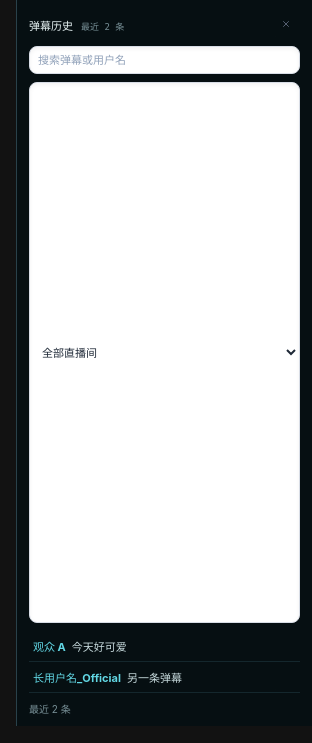
Test: reports clipboard success on the selected row
Click the button with aria-label "复制 观众 A 的弹幕" at coordinates (49, 647), box [29,631,300,662]
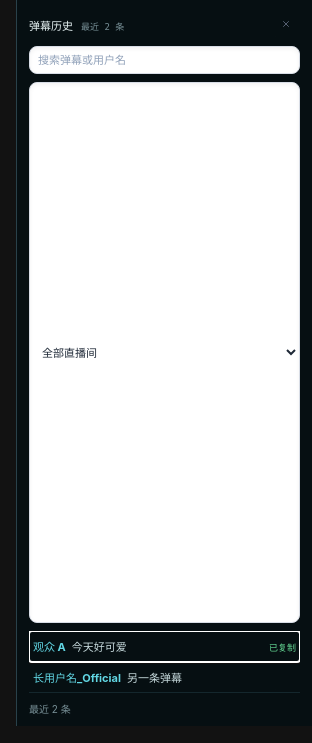
expect the text "已复制" is shown: met, box [269,641,296,654]
